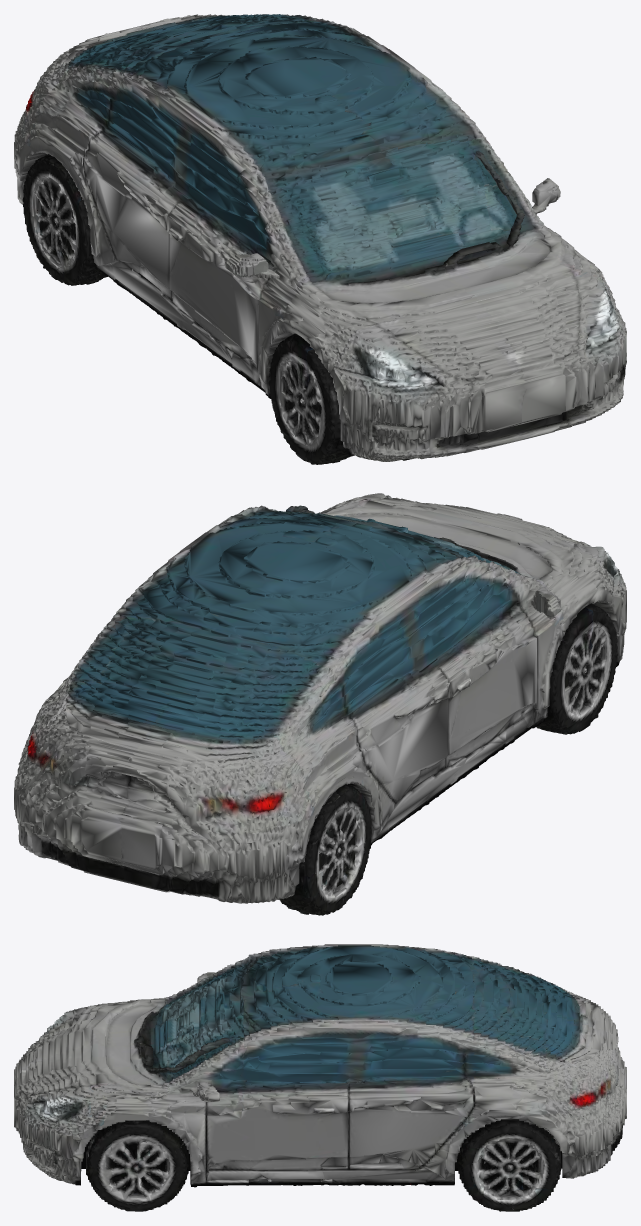
3 renders of one model, top to bottom at view 1: azimuth 30°, elevation 25°; view 2: azimuth 150°, elevation 25°; view 3: azimuth 270°, elevation 25°, orthographic. The views are drawn at different scales.
Parts seen in each view (by area): view 1: geometry_0; view 2: geometry_0; view 3: geometry_0.
Boxes of the visible parts, x1,y1,x2,y2 form: geometry_0: [14, 14, 626, 464]; geometry_0: [14, 493, 626, 915]; geometry_0: [14, 944, 626, 1211].
Bounding box in the file's own units: 0.4673 × 0.3306 × 1.
Materials: 1 (1 with a texture image).
